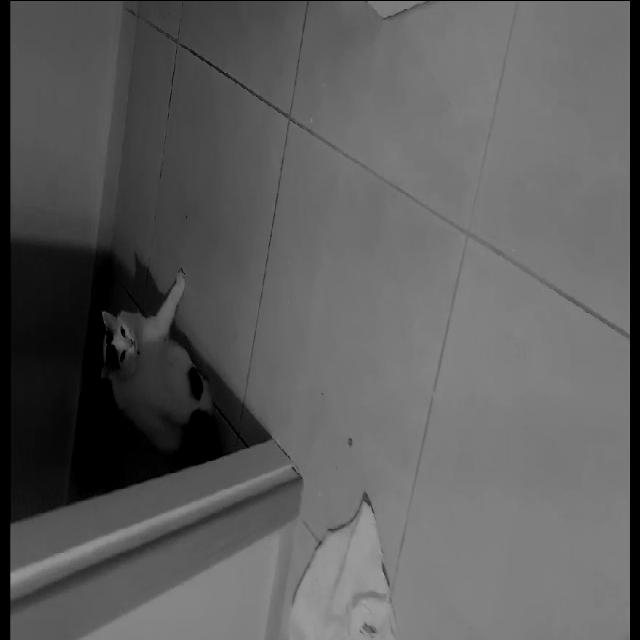Simba: (75, 258, 246, 480)
